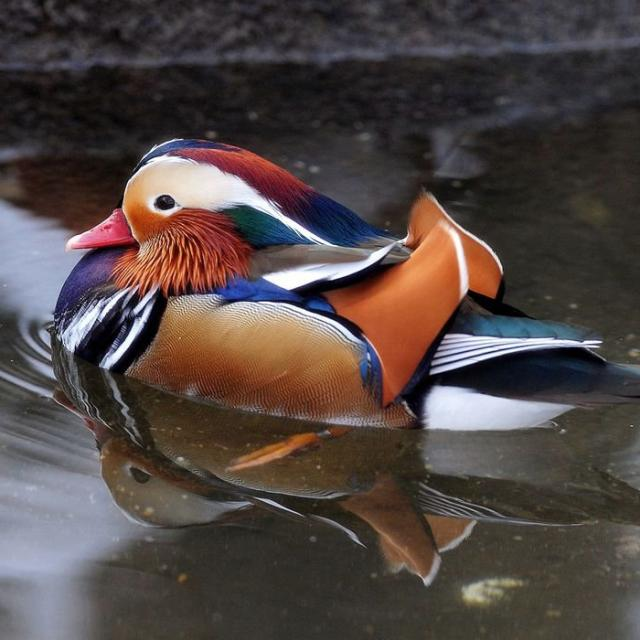duck: (55, 139, 640, 430)
